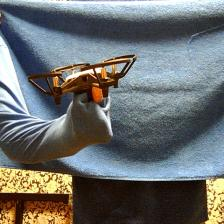drone: (29, 51, 136, 100)
